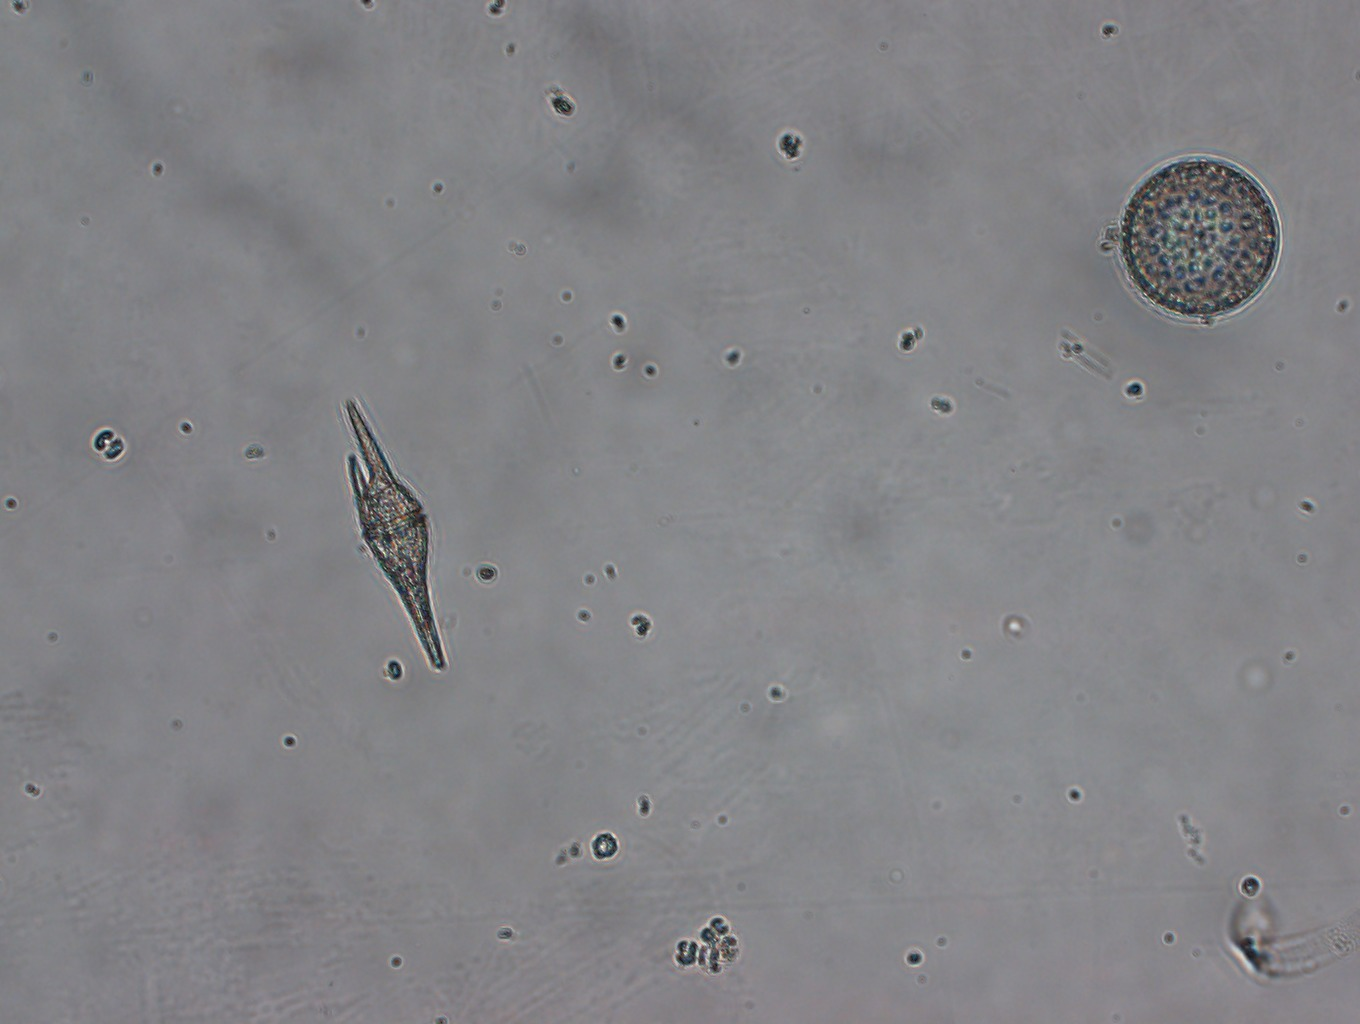ceratium furca: (342, 394, 452, 678)
coscinodiscus: (1113, 152, 1280, 325)
